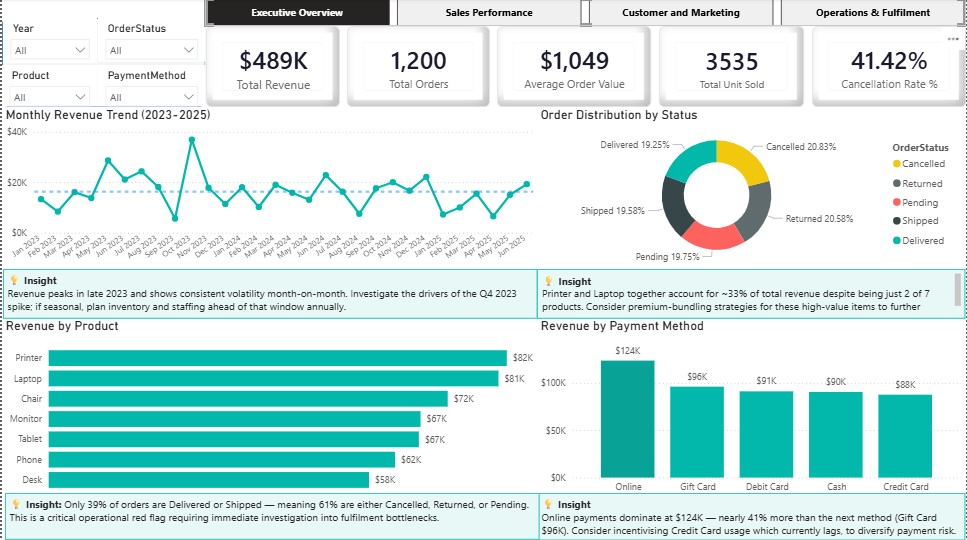

Layout of this report page (visuals, bound fields, positions):
{"tool":"powerbi","page":{"name":"Executive Overview","canvas":[1280,720],"ordinal":0},"visuals":[{"type":"shape","box":[0,26.9,270.4,118],"z":0},{"type":"cardVisual","fields":{"Data":["_Measures.Total Unit Sold"]},"box":[872.4,37.3,192.7,107.6],"z":1000},{"type":"cardVisual","fields":{"Data":["_Measures.Total Revenue"]},"box":[270.4,37.3,177.8,107.6],"z":2000},{"type":"cardVisual","fields":{"Data":["_Measures.Total Orders"]},"box":[458.6,37.3,189.7,107.6],"z":3000},{"type":"cardVisual","fields":{"Data":["_Measures.Cancellation Rate %"]},"box":[1075.5,37.3,204.6,107.6],"z":4000},{"type":"cardVisual","fields":{"Data":["_Measures.Aerage Order Value"]},"box":[657.3,37.3,204.6,107.6],"z":5000},{"type":"lineChart","title":"Monthly Revenue Trend (2023-2025)","fields":{"Category":["DateDim.Month-Year"],"Y":["_Measures.Total Revenue"]},"box":[0,144.9,711,215.1],"z":6000},{"type":"clusteredBarChart","title":"Revenue by Product","fields":{"Category":["Order.Product"],"Y":["_Measures.Total Revenue"]},"box":[0,425.7,711,242],"z":7000},{"type":"donutChart","title":"Order Distribution by Status","fields":{"Category":["Order.OrderStatus"],"Y":["_Measures.Total Orders"]},"box":[711,144.9,569.1,215.1],"z":8000},{"type":"clusteredColumnChart","title":"Revenue by Payment Method","fields":{"Category":["Order.PaymentMethod"],"Y":["_Measures.Total Revenue"]},"box":[711,425.7,569.1,242],"z":9000},{"type":"slicer","fields":{"Values":["DateDim.Year"]},"box":[1.5,26.9,125.5,59.8],"z":10000},{"type":"slicer","fields":{"Values":["Order.Product"]},"box":[0,89.6,127,55.3],"z":11000},{"type":"slicer","fields":{"Values":["Order.OrderStatus"]},"box":[127,26.9,143.4,58.3],"z":12000},{"type":"slicer","fields":{"Values":["Order.PaymentMethod"]},"box":[127,89.6,143.4,55.3],"z":13000},{"type":"pageNavigator","box":[269.8,0,1010.2,37.2],"z":14000},{"type":"textbox","box":[1.5,360,709.5,65.7],"z":15000},{"type":"textbox","box":[711,360,569.1,65.7],"z":16000},{"type":"textbox","box":[711,657.3,569.1,62.7],"z":17000},{"type":"textbox","box":[4.3,658,710.1,62.3],"z":18000}]}

Visuals, with their boxes in screenshot pixels (x1, y1, x2, y2), scaled from the page's 1280x720 canvas onto the 967x540 screenshot:
shape: 0,20,204,109
cardVisual - _Measures.Total Unit Sold: 659,28,805,109
cardVisual - _Measures.Total Revenue: 204,28,339,109
cardVisual - _Measures.Total Orders: 346,28,490,109
cardVisual - _Measures.Cancellation Rate %: 813,28,966,109
cardVisual - _Measures.Aerage Order Value: 497,28,651,109
"Monthly Revenue Trend (2023-2025)" lineChart: 0,109,537,270
"Revenue by Product" clusteredBarChart: 0,319,537,501
"Order Distribution by Status" donutChart: 537,109,966,270
"Revenue by Payment Method" clusteredColumnChart: 537,319,966,501
slicer - DateDim.Year: 1,20,96,65
slicer - Order.Product: 0,67,96,109
slicer - Order.OrderStatus: 96,20,204,64
slicer - Order.PaymentMethod: 96,67,204,109
pageNavigator: 204,0,966,28
textbox: 1,270,537,319
textbox: 537,270,966,319
textbox: 537,493,966,539
textbox: 3,494,540,539
